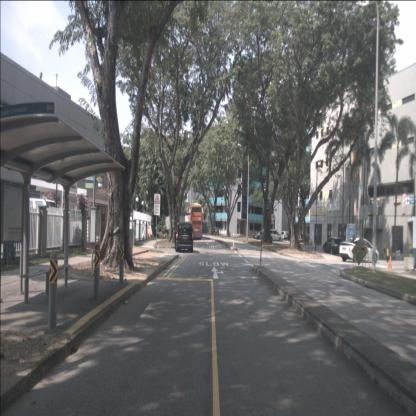cone: (388, 255, 392, 271)
